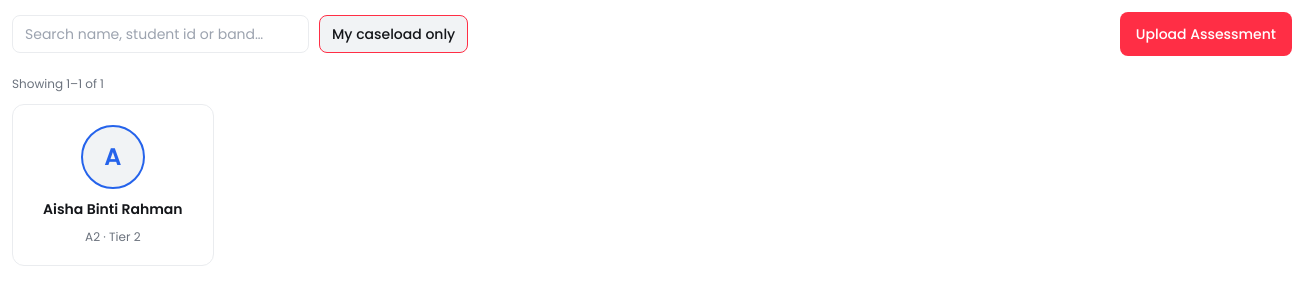
Test case: UT-9.11b: toggling back on returns to the assigned learners only
Expected: the text "Aisha Binti Rahman" is shown, [43,199,183,219]
Click the button "My caseload only": {"x": 394, "y": 34} [319,15,468,53]
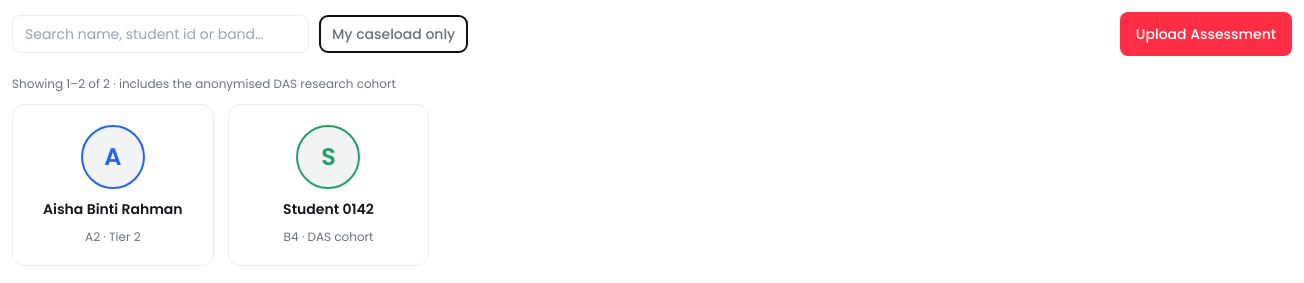
Result: the text "Student 0142" is shown at [283,199,374,219]
Click the button "My caseload only": {"x": 394, "y": 34} [319,15,468,53]
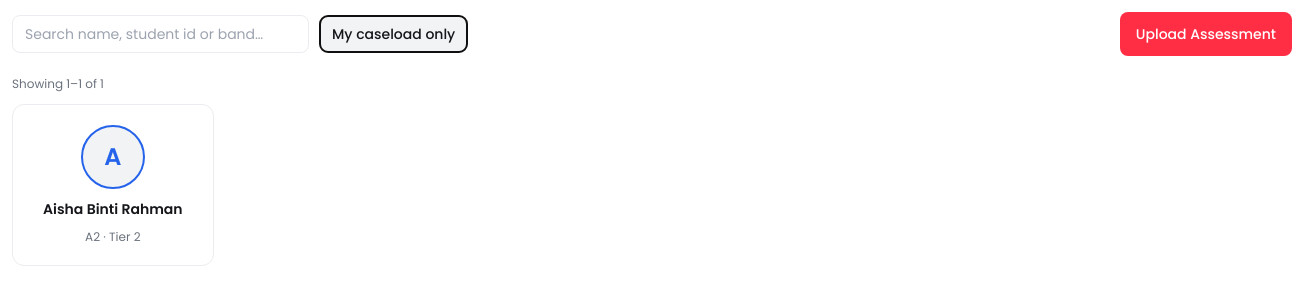
Result: the text "Student 0142" is gone
